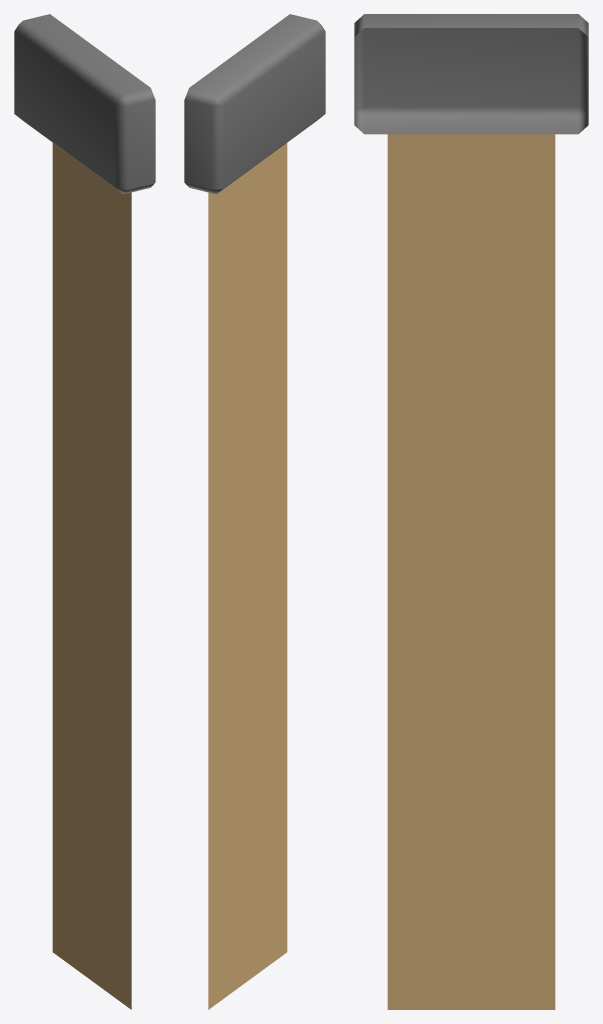
Rendered from SM_WallEndA_6_LOD0.fbx.
3 views of the same model, side by side, from view 1: azimuth 30°, elevation 25°; view 2: azimuth 150°, elevation 25°; view 3: azimuth 270°, elevation 25° (orthographic). The views are drawn at different scales.
Visible parts, largest first — view 1: SM_WallEndA_6_LOD0; view 2: SM_WallEndA_6_LOD0; view 3: SM_WallEndA_6_LOD0.
Boxes of the visible parts, x1=… form: SM_WallEndA_6_LOD0: x1=14, y1=14, x2=155, y2=1009; SM_WallEndA_6_LOD0: x1=184, y1=14, x2=325, y2=1009; SM_WallEndA_6_LOD0: x1=354, y1=14, x2=588, y2=1009.
Bounding box in the file's own units: 0.26 × 6.5 × 1.4.
